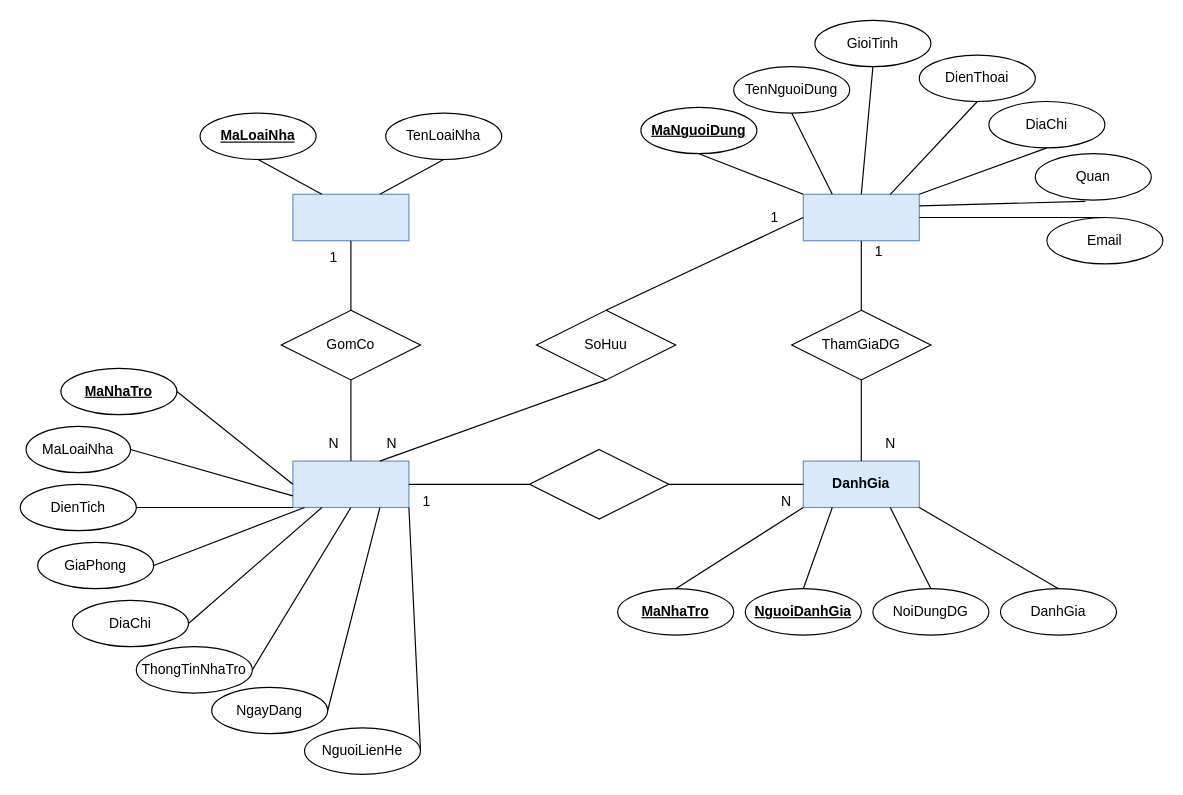
The diagram is 1183 pixels wide and 795 high, and some of its shapes have lost their labels. Here are the shapes that lost their labels. From the top down, the centre of each, then its label:
At (x=350, y=217): "LoaiNhaTro".
At (x=860, y=217): "NguoiDung".
At (x=350, y=483): "NhaTro".
At (x=598, y=483): "DuocDG".
